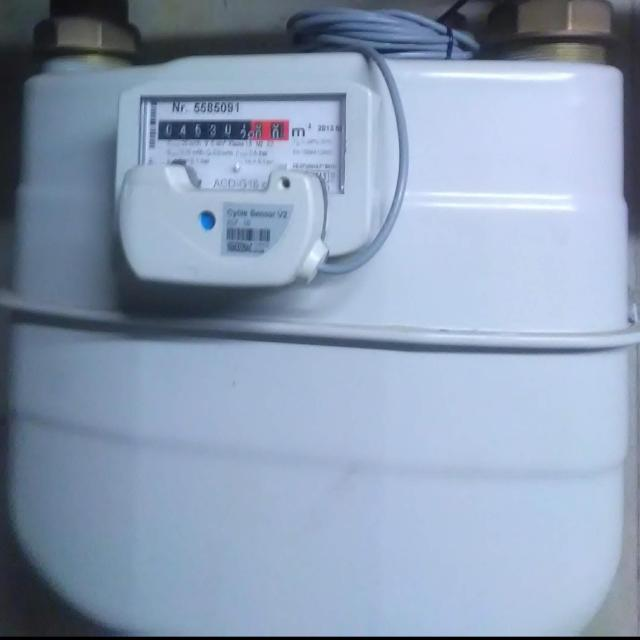gaz_meter: (136, 89, 350, 194)
indication: (158, 118, 291, 141)
